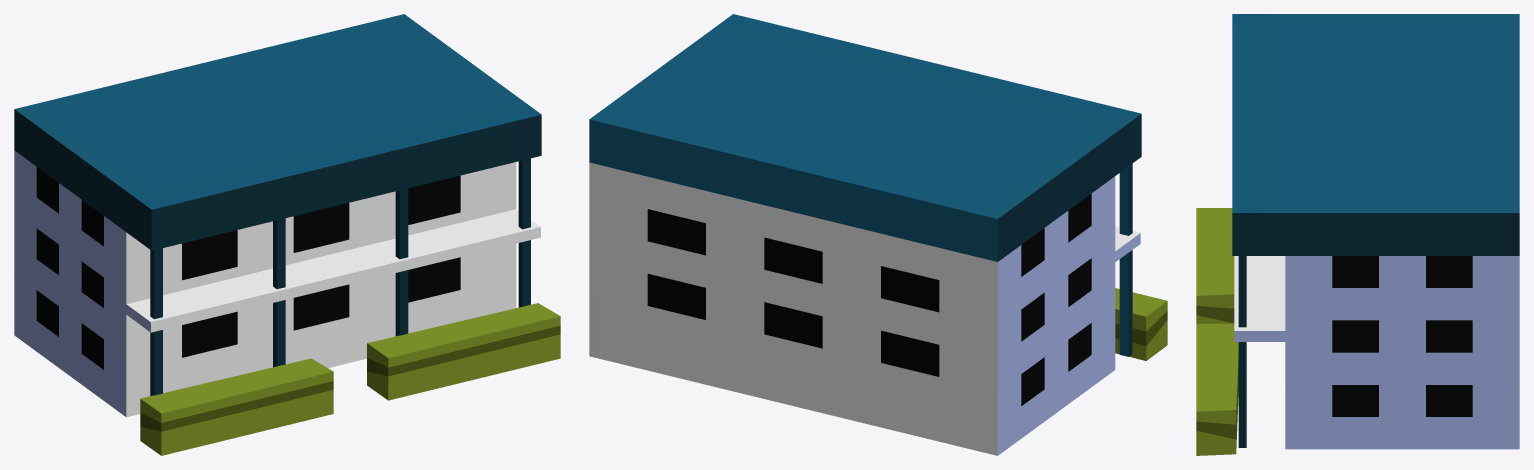
File: motel.FBX
3 renders of one model, left to right at view 1: azimuth 30°, elevation 25°; view 2: azimuth 150°, elevation 25°; view 3: azimuth 270°, elevation 25°, orthographic. The views are drawn at different scales.
Parts seen in each view (by area): view 1: motel001; view 2: motel001; view 3: motel001.
Part boxes in pixels (<box>): motel001: <box>14,14,560,455</box>; motel001: <box>589,14,1167,455</box>; motel001: <box>1196,14,1519,455</box>.
Size of the model in its own units: 263 by 176 by 146.
